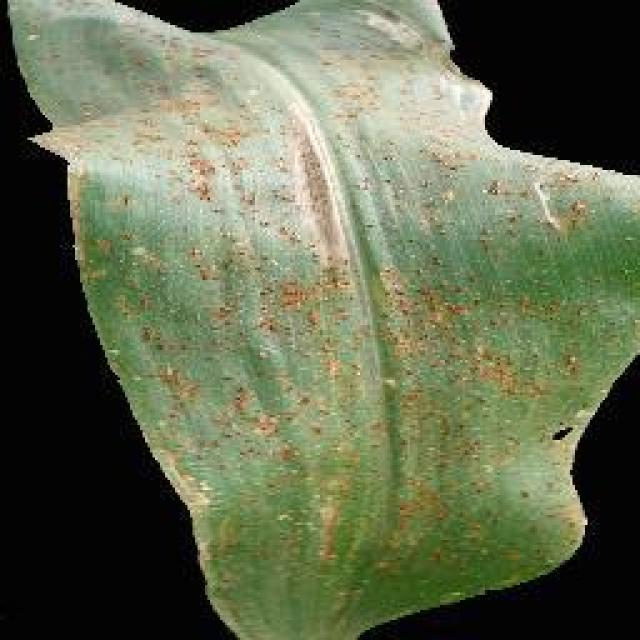Corn Common Rust: (90, 57, 597, 640)
